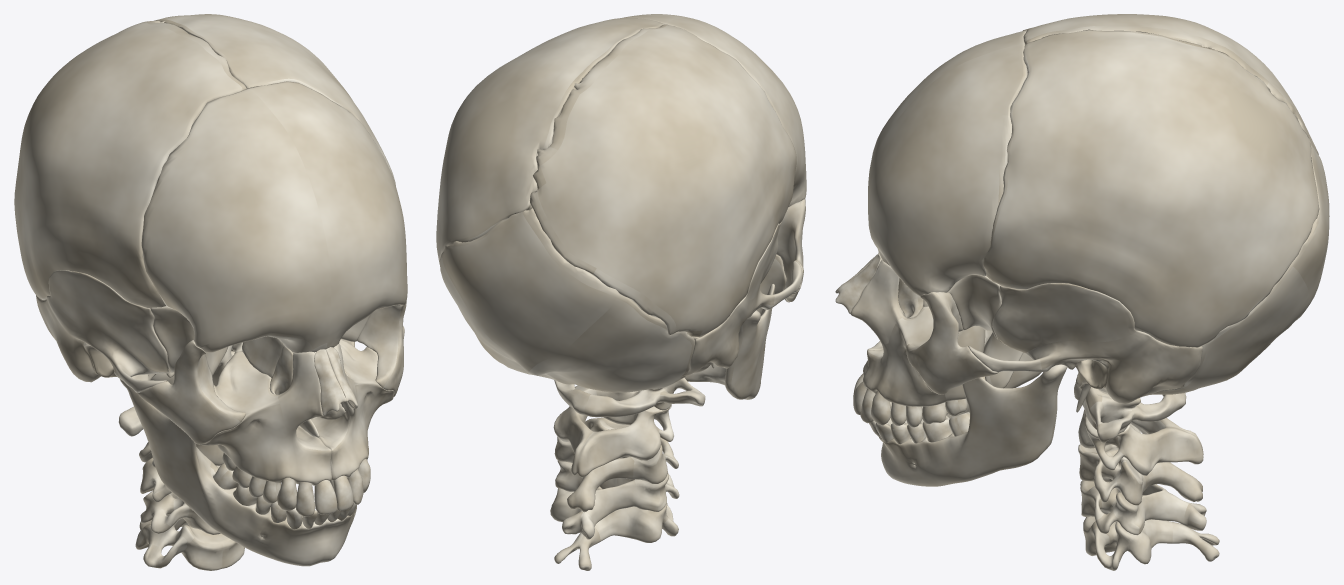
File: SKULL.glb
3 views of the same model, side by side, from view 1: azimuth 30°, elevation 25°; view 2: azimuth 150°, elevation 25°; view 3: azimuth 270°, elevation 25° (orthographic). The views are drawn at different scales.
Visible parts, largest first — view 1: Frontal bone, Parietal bone right, Maxilla bone.r, Mandible bone, Temporal bone.r, Parietal bone left, Maxilla bone.l, Zygomatic bone.r, Cervical vertebrae (C5), Zygomatic bone.l, Sphenoid bone, Cervical vertebrae (C4) (+11 smaller); view 2: Parietal bone right, Occipital bone, Parietal bone left, Axis (C2), Frontal bone, Temporal bone.r, Cervical vertebrae (C4), Cervical vertebrae (C5), Cervical vertebrae (C3), Mandible bone, Atlas (C1), Zygomatic bone.r (+1 smaller); view 3: Parietal bone left, Frontal bone, Temporal bone.l, Mandible bone, Occipital bone, Maxilla bone.l, Parietal bone right, Zygomatic bone.l, Axis (C2), Cervical vertebrae (C4), Cervical vertebrae (C5), Cervical vertebrae (C3) (+4 smaller).
Part boxes in pixels (x1,y1,x2,y2): Frontal bone: (141,81,407,352); Parietal bone right: (14,20,246,308); Maxilla bone.r: (200,351,331,485); Mandible bone: (120,339,356,566); Temporal bone.r: (36,270,168,392); Parietal bone left: (154,14,395,185); Maxilla bone.l: (311,339,394,480); Zygomatic bone.r: (138,340,245,444); Cervical vertebrae (C5): (135,515,244,570); Zygomatic bone.l: (357,301,406,397); Sphenoid bone: (150,306,369,386); Cervical vertebrae (C4): (140,491,220,534); Parietal bone right: (530,24,796,337); Occipital bone: (439,208,694,392); Parietal bone left: (436,18,663,264); Axis (C2): (553,385,673,477); Frontal bone: (622,14,806,206); Temporal bone.r: (682,221,802,376); Cervical vertebrae (C4): (555,458,679,539); Cervical vertebrae (C5): (550,486,678,570); Cervical vertebrae (C3): (554,417,678,512); Mandible bone: (684,284,775,399); Atlas (C1): (554,377,705,417); Zygomatic bone.r: (776,199,805,301); Parietal bone left: (983,29,1319,347); Frontal bone: (868,30,1027,296); Temporal bone.l: (968,283,1202,412); Mandible bone: (879,353,1067,486); Occipital bone: (1150,138,1329,394); Maxilla bone.l: (850,260,985,406); Parietal bone right: (1023,14,1318,154); Zygomatic bone.l: (906,292,998,394); Axis (C2): (1078,387,1203,475); Cervical vertebrae (C4): (1080,457,1206,535); Cervical vertebrae (C5): (1083,489,1219,570); Cervical vertebrae (C3): (1078,423,1202,505).
Bounding box in the file's own units: 0.1485 × 0.2376 × 0.2038.
1 material, 1 textured.
